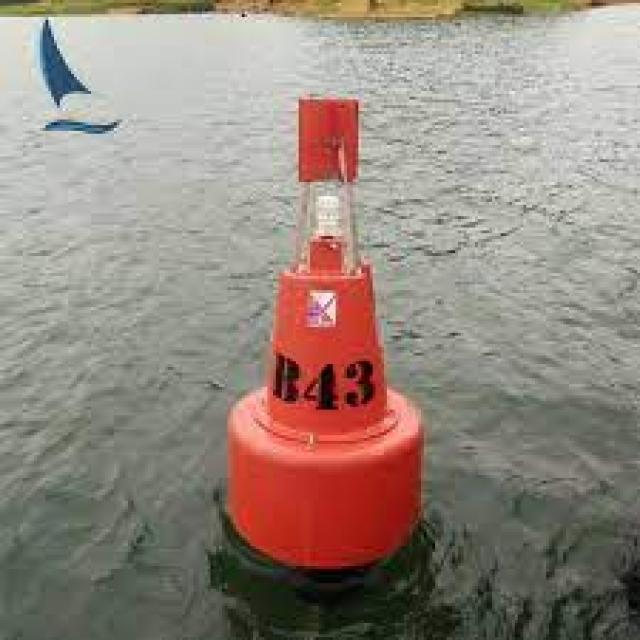2.1 lateral mark -P-: (187, 68, 443, 588)
